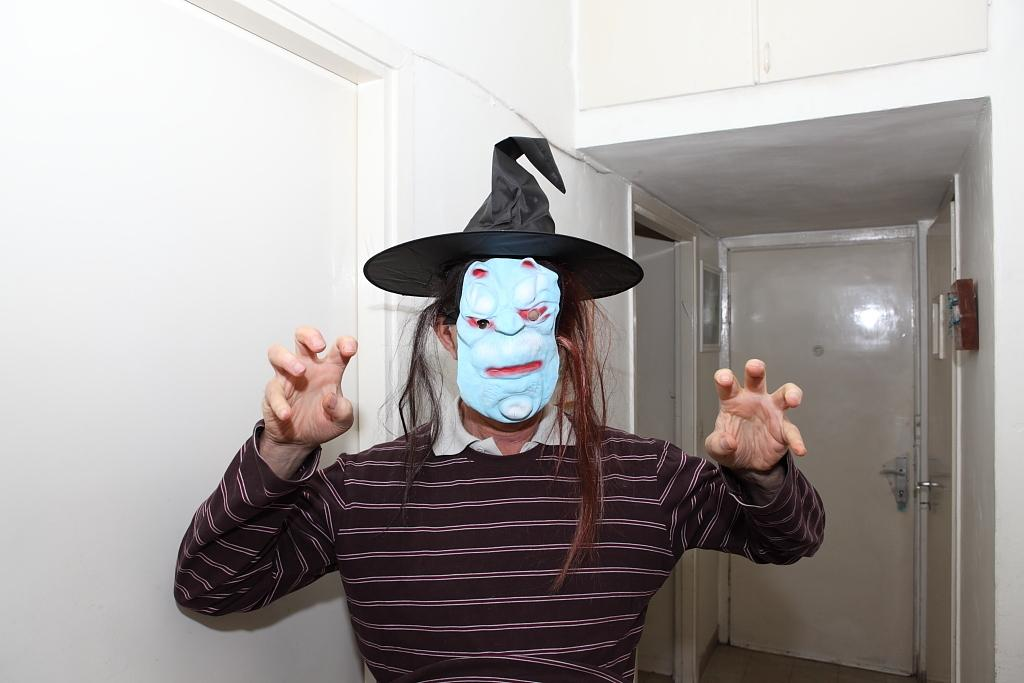Hat: (361, 132, 647, 304)
